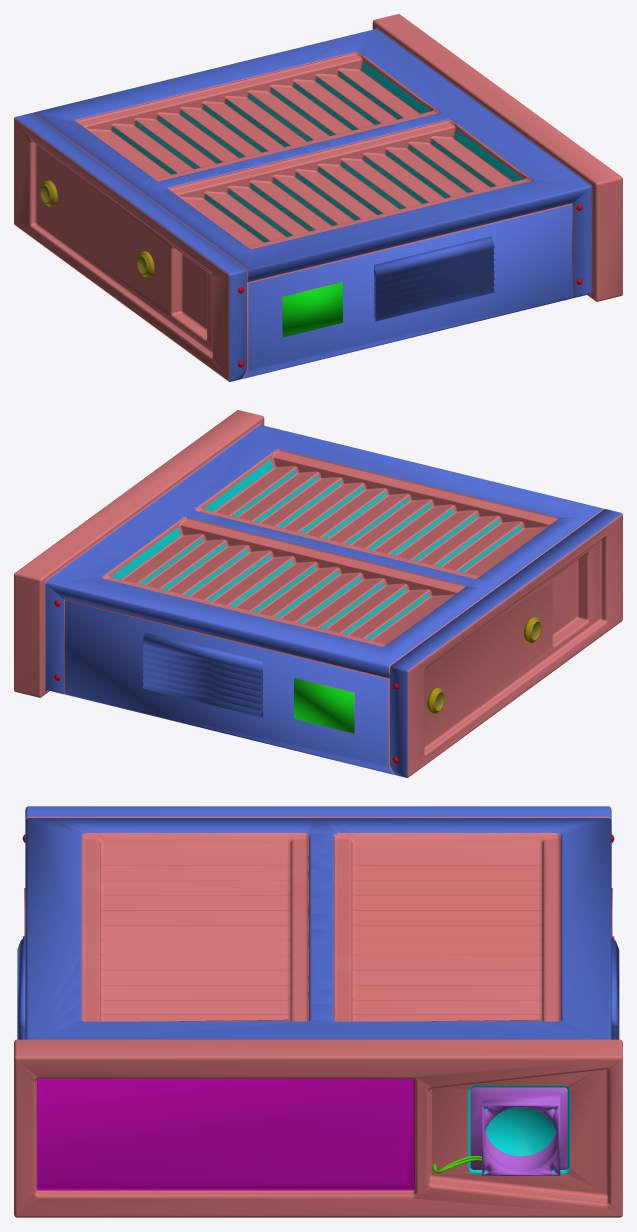
The model's file is MoneyPrinters_LOD0_Autosmooth.fbx.
3 renders of one model, top to bottom at view 1: azimuth 30°, elevation 25°; view 2: azimuth 150°, elevation 25°; view 3: azimuth 270°, elevation 25°, orthographic. The views are drawn at different scales.
Visible parts, largest first — view 1: Fluent_Wire.027; view 2: Fluent_Wire.027; view 3: Fluent_Wire.027.
Boxes of the visible parts, x1,y1,x2,y2 form: Fluent_Wire.027: (14,14,622,381); Fluent_Wire.027: (14,410,622,777); Fluent_Wire.027: (14,806,622,1217).
Size of the model in its own units: 34.76 by 10.04 by 34.23.
